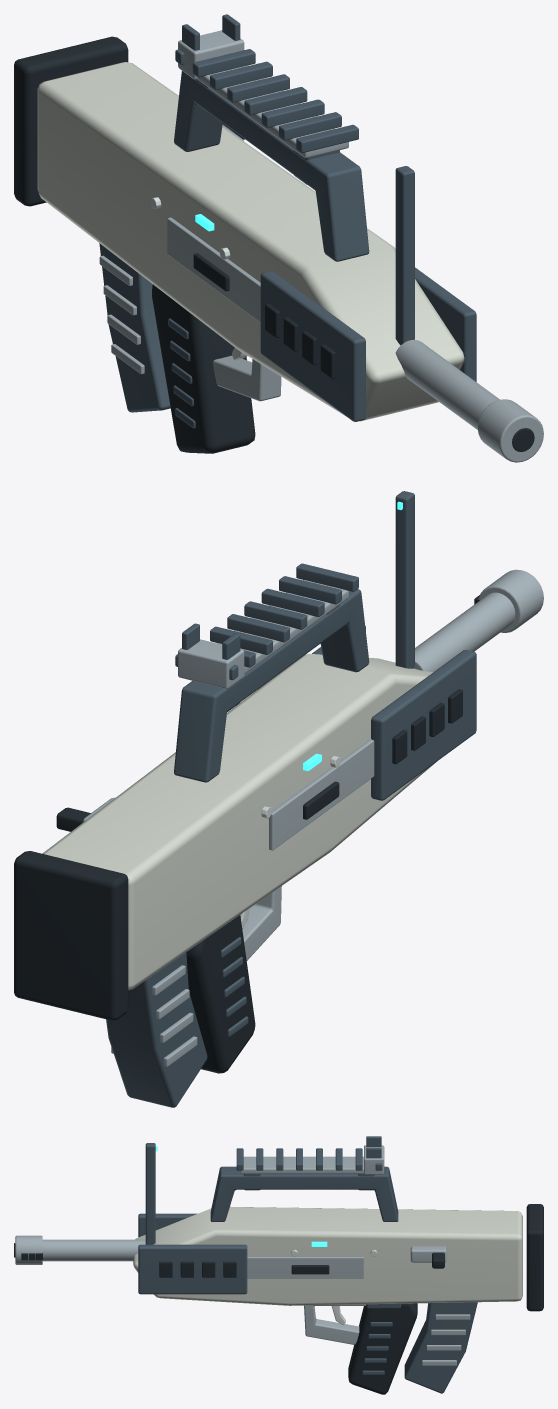
File: weapon_02.glb
3 renders of one model, top to bottom at view 1: azimuth 30°, elevation 25°; view 2: azimuth 150°, elevation 25°; view 3: azimuth 270°, elevation 25°, orthographic. The views are drawn at different scales.
Visible parts, largest first — view 1: receiver / Ceramic, receiver / Cerakote midnight, receiver / Titanium, receiver / Elastomer, pistol_grip / Elastomer, magazine / Cerakote midnight, magazine / Titanium, pistol_grip / Cerakote midnight; view 2: receiver / Ceramic, receiver / Cerakote midnight, receiver / Elastomer, receiver / Titanium, magazine / Cerakote midnight, pistol_grip / Elastomer, magazine / Titanium, pistol_grip / Cerakote midnight; view 3: receiver / Ceramic, receiver / Cerakote midnight, receiver / Titanium, pistol_grip / Elastomer, magazine / Cerakote midnight, receiver / Elastomer, magazine / Titanium, pistol_grip / Cerakote midnight, charging_handle / Titanium.
Part boxes in pixels (x1,y1,x2,y2): receiver / Ceramic: [37, 62, 464, 421]; receiver / Cerakote midnight: [174, 14, 476, 421]; receiver / Titanium: [167, 30, 543, 462]; receiver / Elastomer: [14, 36, 542, 451]; pistol_grip / Elastomer: [152, 284, 255, 453]; magazine / Cerakote midnight: [99, 243, 170, 412]; magazine / Titanium: [99, 255, 144, 374]; pistol_grip / Cerakote midnight: [168, 318, 195, 428]; receiver / Ceramic: [42, 653, 437, 990]; receiver / Cerakote midnight: [174, 491, 476, 800]; receiver / Elastomer: [14, 595, 479, 1020]; receiver / Titanium: [178, 569, 543, 960]; magazine / Cerakote midnight: [106, 952, 207, 1107]; pistol_grip / Elastomer: [186, 915, 255, 1073]; magazine / Titanium: [111, 965, 197, 1066]; pistol_grip / Cerakote midnight: [216, 928, 248, 1037]; receiver / Ceramic: [133, 1206, 522, 1305]; receiver / Cerakote midnight: [138, 1136, 398, 1294]; receiver / Titanium: [15, 1145, 384, 1344]; pistol_grip / Elastomer: [348, 1303, 417, 1394]; magazine / Cerakote midnight: [404, 1302, 477, 1393]; receiver / Elastomer: [14, 1204, 543, 1311]; magazine / Titanium: [422, 1314, 470, 1365]; pistol_grip / Cerakote midnight: [362, 1303, 401, 1374]; charging_handle / Titanium: [410, 1246, 446, 1262].
Size of the model in its own units: 0.215 by 0.5491 by 1.07.
